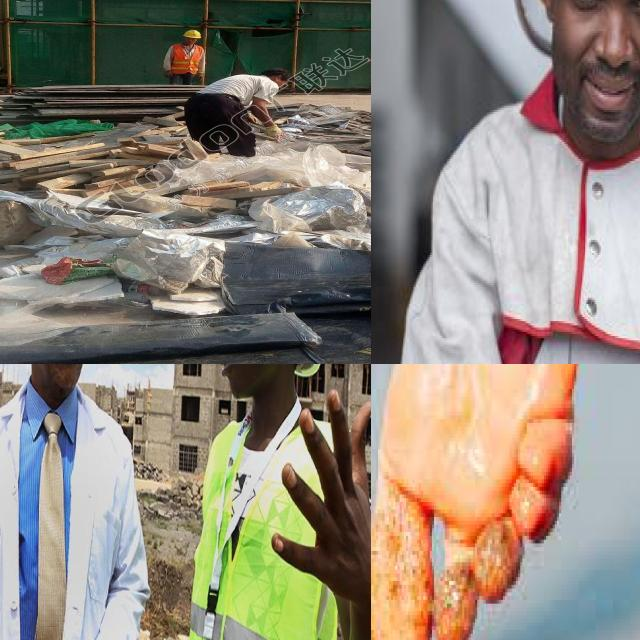No_Ear-Protection: (539, 0, 557, 22)
No_Glasses: (554, 0, 640, 29)
Sandals: (371, 364, 580, 640)
face_nomask: (553, 9, 640, 158), (27, 364, 94, 394)
hand_glove: (258, 122, 288, 142)
hand_noglove: (279, 391, 371, 605)
head_helmet: (182, 29, 202, 38)
person: (213, 364, 331, 640), (0, 364, 108, 640), (184, 66, 294, 156), (167, 30, 209, 84)
vest: (192, 426, 350, 640), (174, 44, 201, 75)
